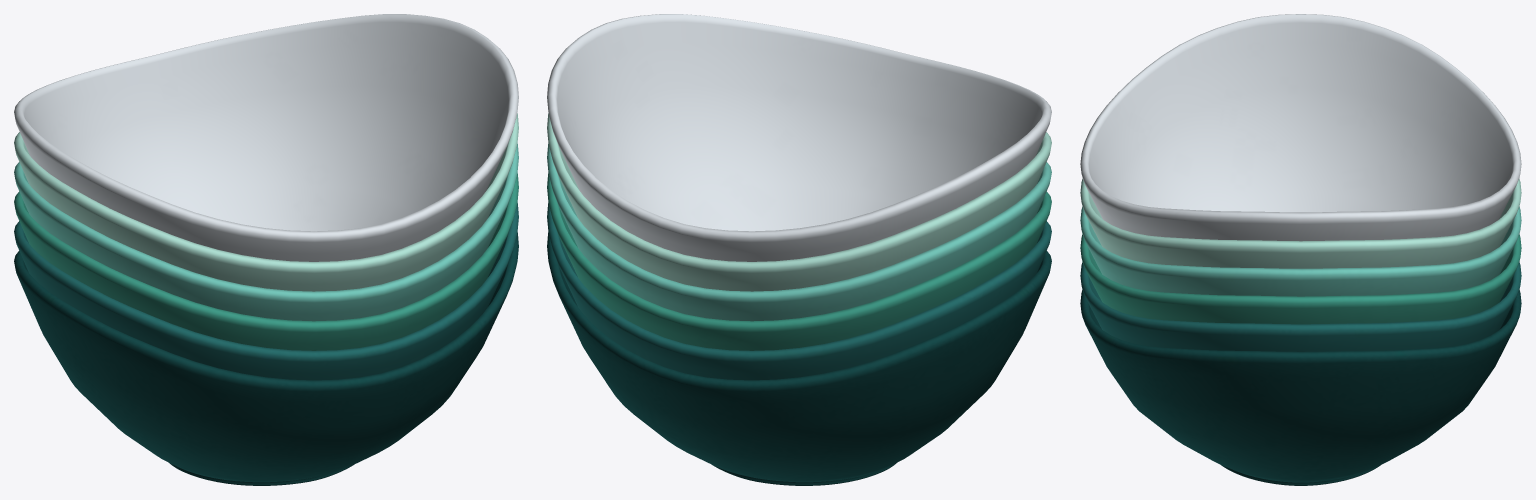
File: bowls.gltf
3 views of the same model, side by side, from view 1: azimuth 30°, elevation 25°; view 2: azimuth 150°, elevation 25°; view 3: azimuth 270°, elevation 25° (orthographic). The views are drawn at different scales.
Parts seen in each view (by area): view 1: BowlsDesignerSet001_06, BowlsDesignerSet001_01, BowlsDesignerSet001_03, BowlsDesignerSet001_05, BowlsDesignerSet001_04, BowlsDesignerSet001_02; view 2: BowlsDesignerSet001_06, BowlsDesignerSet001_01, BowlsDesignerSet001_03, BowlsDesignerSet001_05, BowlsDesignerSet001_04, BowlsDesignerSet001_02; view 3: BowlsDesignerSet001_06, BowlsDesignerSet001_01, BowlsDesignerSet001_03, BowlsDesignerSet001_04, BowlsDesignerSet001_05, BowlsDesignerSet001_02.
Part boxes in pixels (<box>): BowlsDesignerSet001_06: <box>14,14,518,261</box>; BowlsDesignerSet001_01: <box>14,232,518,485</box>; BowlsDesignerSet001_03: <box>14,173,518,350</box>; BowlsDesignerSet001_05: <box>14,113,518,291</box>; BowlsDesignerSet001_04: <box>14,143,518,321</box>; BowlsDesignerSet001_02: <box>14,202,518,380</box>; BowlsDesignerSet001_06: <box>547,14,1051,261</box>; BowlsDesignerSet001_01: <box>547,232,1051,485</box>; BowlsDesignerSet001_03: <box>547,173,1051,350</box>; BowlsDesignerSet001_05: <box>547,113,1051,291</box>; BowlsDesignerSet001_04: <box>547,143,1051,321</box>; BowlsDesignerSet001_02: <box>547,202,1051,380</box>; BowlsDesignerSet001_06: <box>1080,14,1521,241</box>; BowlsDesignerSet001_01: <box>1080,290,1521,485</box>; BowlsDesignerSet001_03: <box>1080,234,1521,324</box>; BowlsDesignerSet001_04: <box>1080,206,1521,296</box>; BowlsDesignerSet001_05: <box>1080,178,1521,268</box>; BowlsDesignerSet001_02: <box>1080,262,1521,351</box>.
Size of the model in its own units: 1.51 by 1.14 by 1.38.
Materials: 1 (1 with a texture image).
